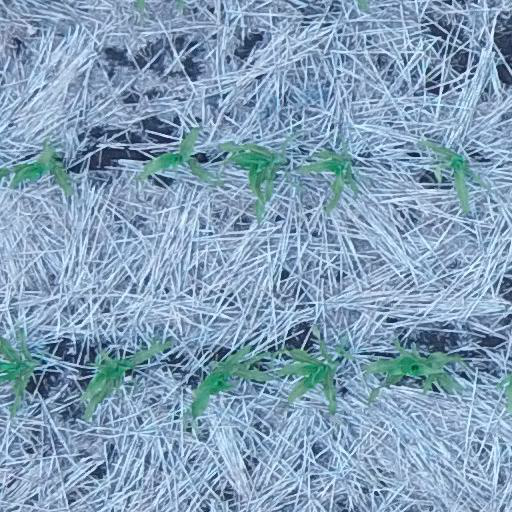planta: (77, 335, 177, 423), (181, 341, 284, 424), (360, 334, 453, 412), (272, 325, 344, 419), (216, 139, 289, 231), (133, 124, 227, 190), (416, 137, 487, 218), (294, 134, 361, 214), (408, 339, 469, 395)
